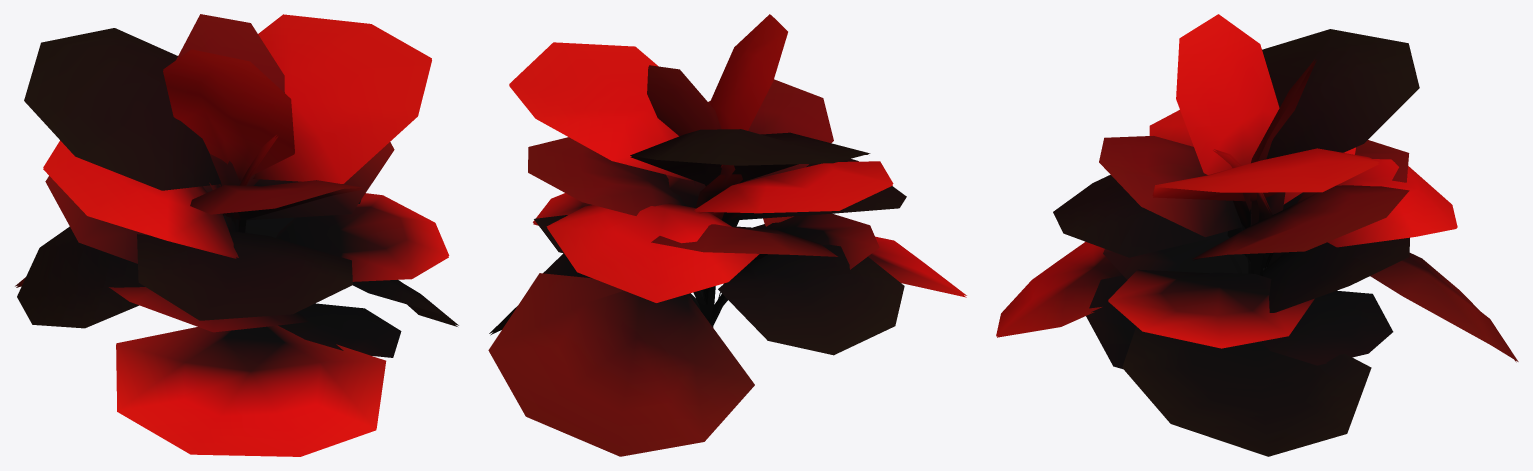
The model's file is PalmPlant03_AFS_high.FBX.
3 views of the same model, side by side, from view 1: azimuth 30°, elevation 25°; view 2: azimuth 150°, elevation 25°; view 3: azimuth 270°, elevation 25° (orthographic). The views are drawn at different scales.
Visible parts, largest first — view 1: PalmPlant03_AFS_high; view 2: PalmPlant03_AFS_high; view 3: PalmPlant03_AFS_high.
Part boxes in pixels (x1,y1,x2,y2): PalmPlant03_AFS_high: (15, 14, 458, 456); PalmPlant03_AFS_high: (488, 14, 966, 456); PalmPlant03_AFS_high: (996, 14, 1518, 456).
Bounding box in the file's own units: 0.9846 × 0.8743 × 1.21.
